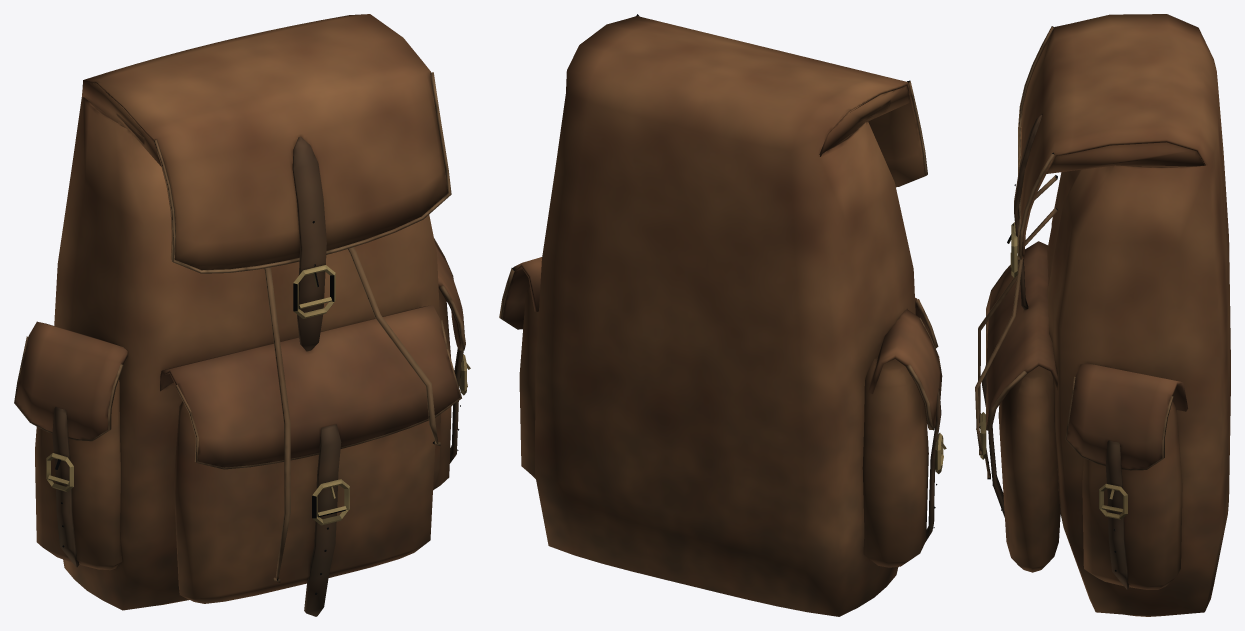
The model's file is RangerRucksack.glb.
3 views of the same model, side by side, from view 1: azimuth 30°, elevation 25°; view 2: azimuth 150°, elevation 25°; view 3: azimuth 270°, elevation 25° (orthographic). The views are drawn at different scales.
Visible parts, largest first — view 1: Ranger • front-pocket rucksack; view 2: Ranger • front-pocket rucksack; view 3: Ranger • front-pocket rucksack.
Boxes of the visible parts, x1,y1,x2,y2 form: Ranger • front-pocket rucksack: (14, 14, 470, 616); Ranger • front-pocket rucksack: (499, 14, 946, 616); Ranger • front-pocket rucksack: (975, 14, 1230, 616).
Size of the model in its own units: 1.15 by 1.29 by 0.617.
6 materials, 6 textured.
